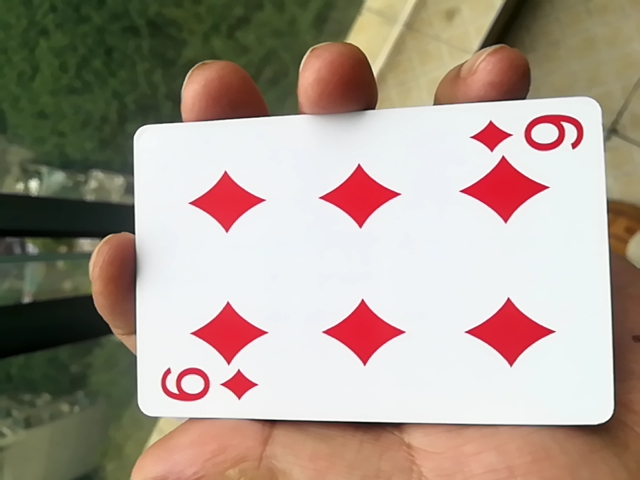fk 6: (117, 113, 608, 445)
